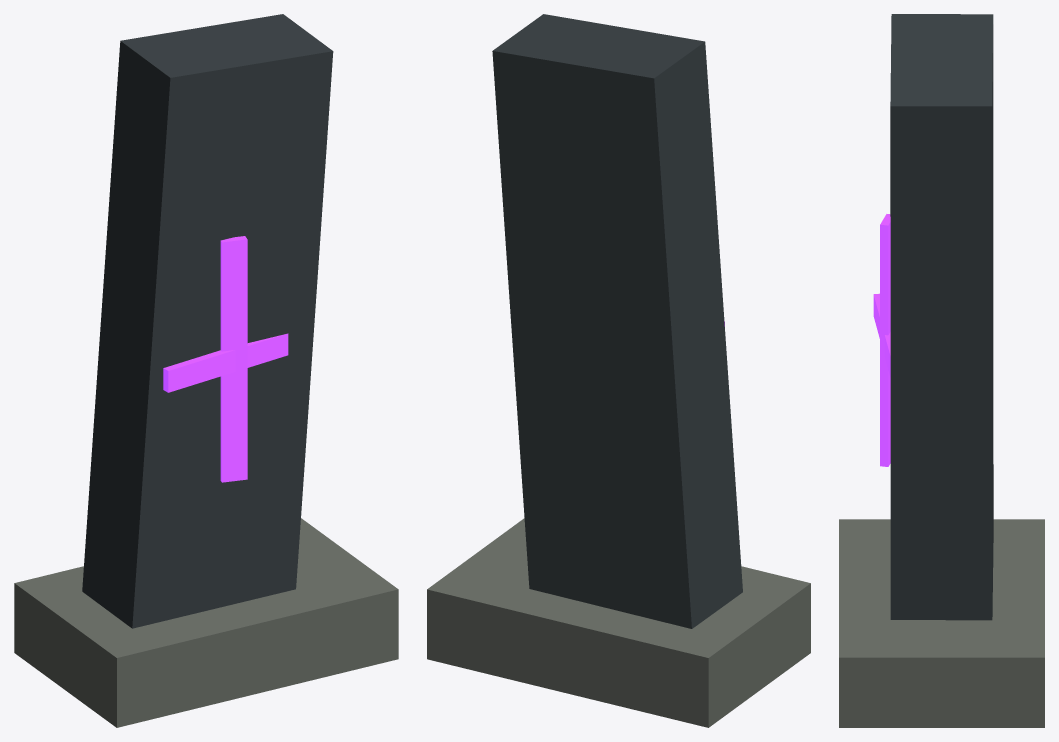
File: stone_marker_a.glb
3 views of the same model, side by side, from view 1: azimuth 30°, elevation 25°; view 2: azimuth 150°, elevation 25°; view 3: azimuth 270°, elevation 25° (orthographic).
Visible parts, largest first — view 1: Marker, Base.004, Rune_V, Rune_H; view 2: Marker, Base.004; view 3: Marker, Base.004, Rune_V, Rune_H.
Part boxes in pixels (x1,y1,x2,y2): Marker: [82, 14, 333, 628]; Base.004: [14, 518, 398, 727]; Rune_V: [220, 236, 247, 482]; Rune_H: [163, 333, 288, 392]; Marker: [492, 14, 742, 628]; Base.004: [427, 518, 810, 727]; Marker: [890, 14, 993, 620]; Base.004: [839, 519, 1044, 727]; Rune_V: [880, 214, 890, 466]; Rune_H: [873, 293, 890, 377].
Size of the model in its own units: 1.35 by 2.8 by 0.85.
